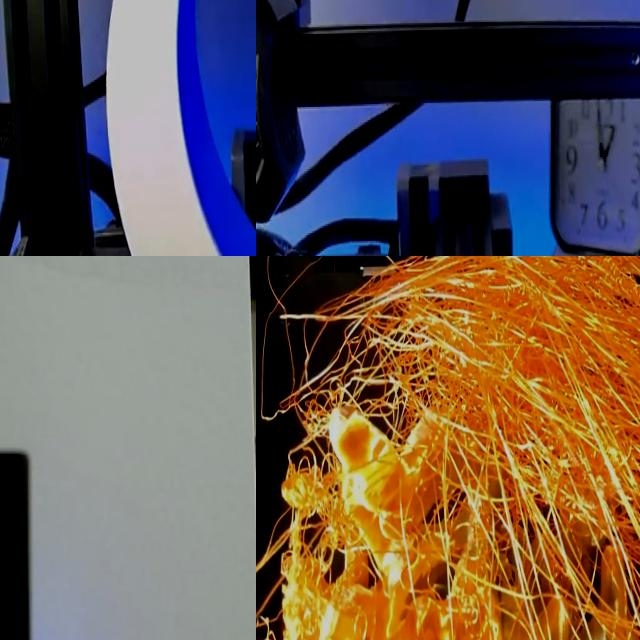spaghetti: (256, 256, 640, 640)
